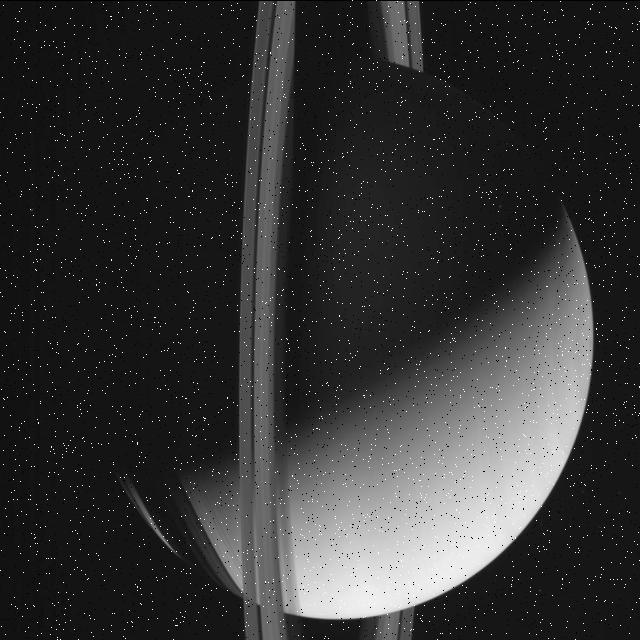Saturn: (72, 0, 594, 640)
